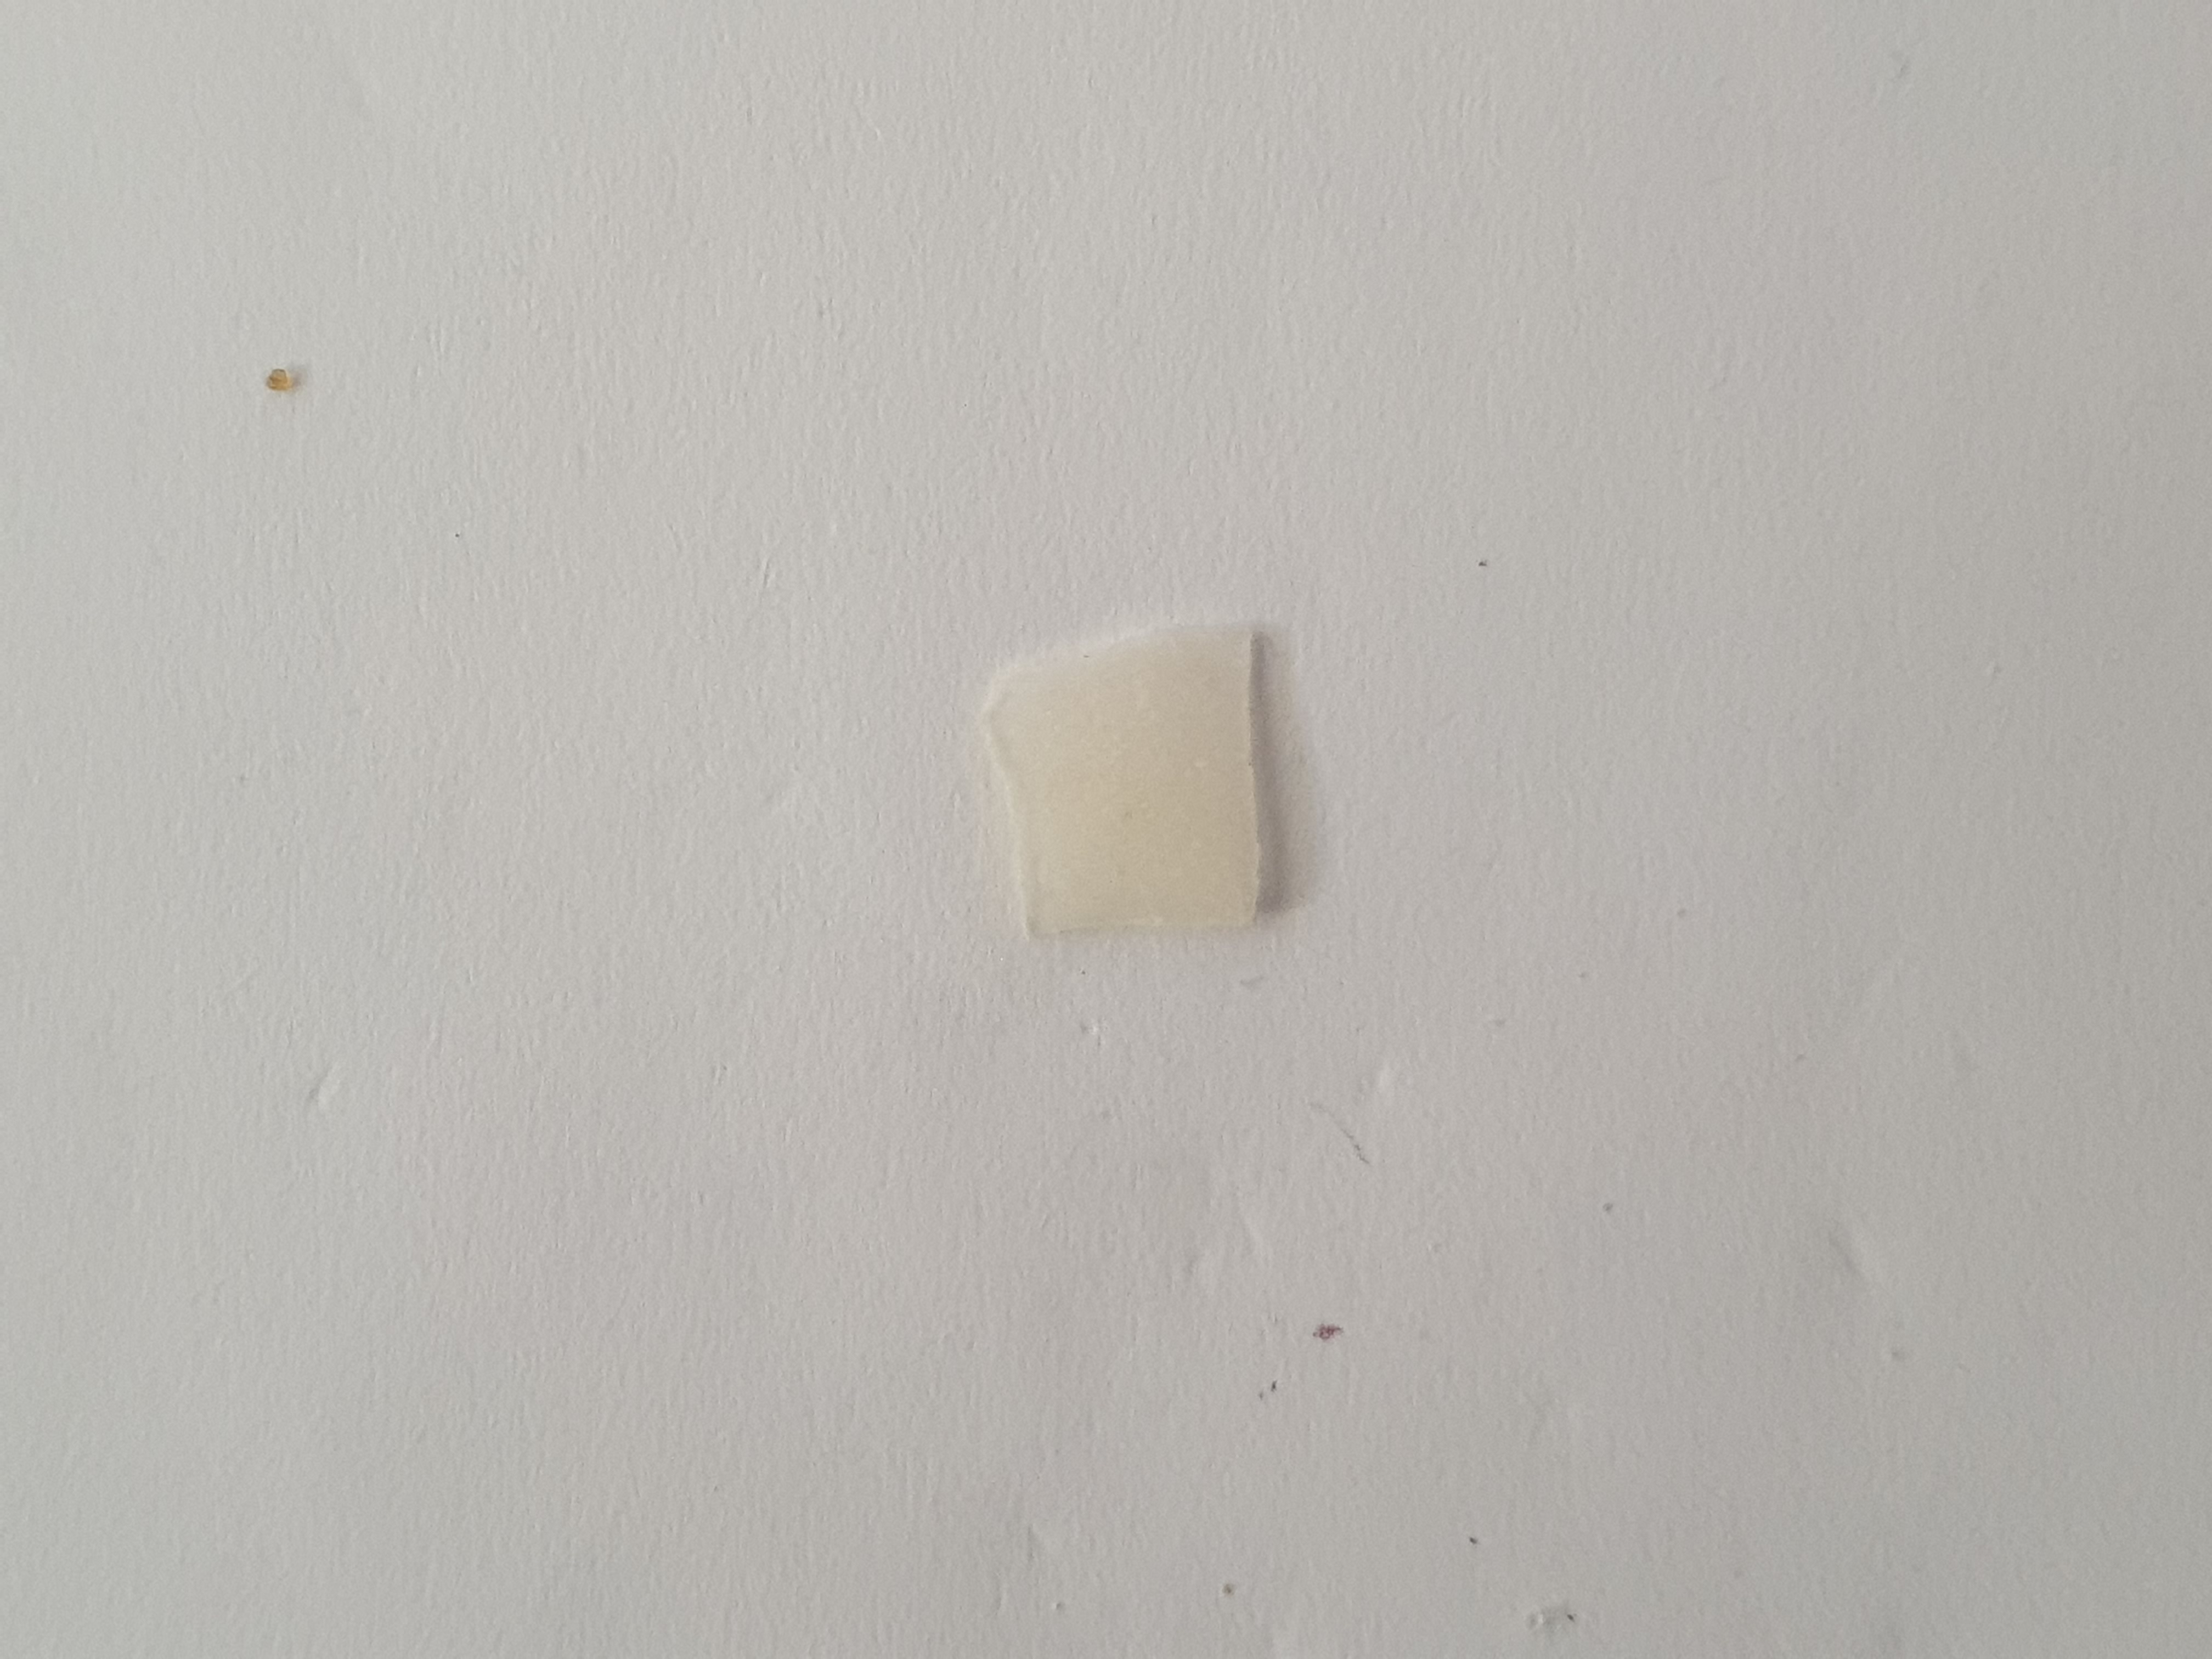plastic: (961, 599, 1305, 972)
